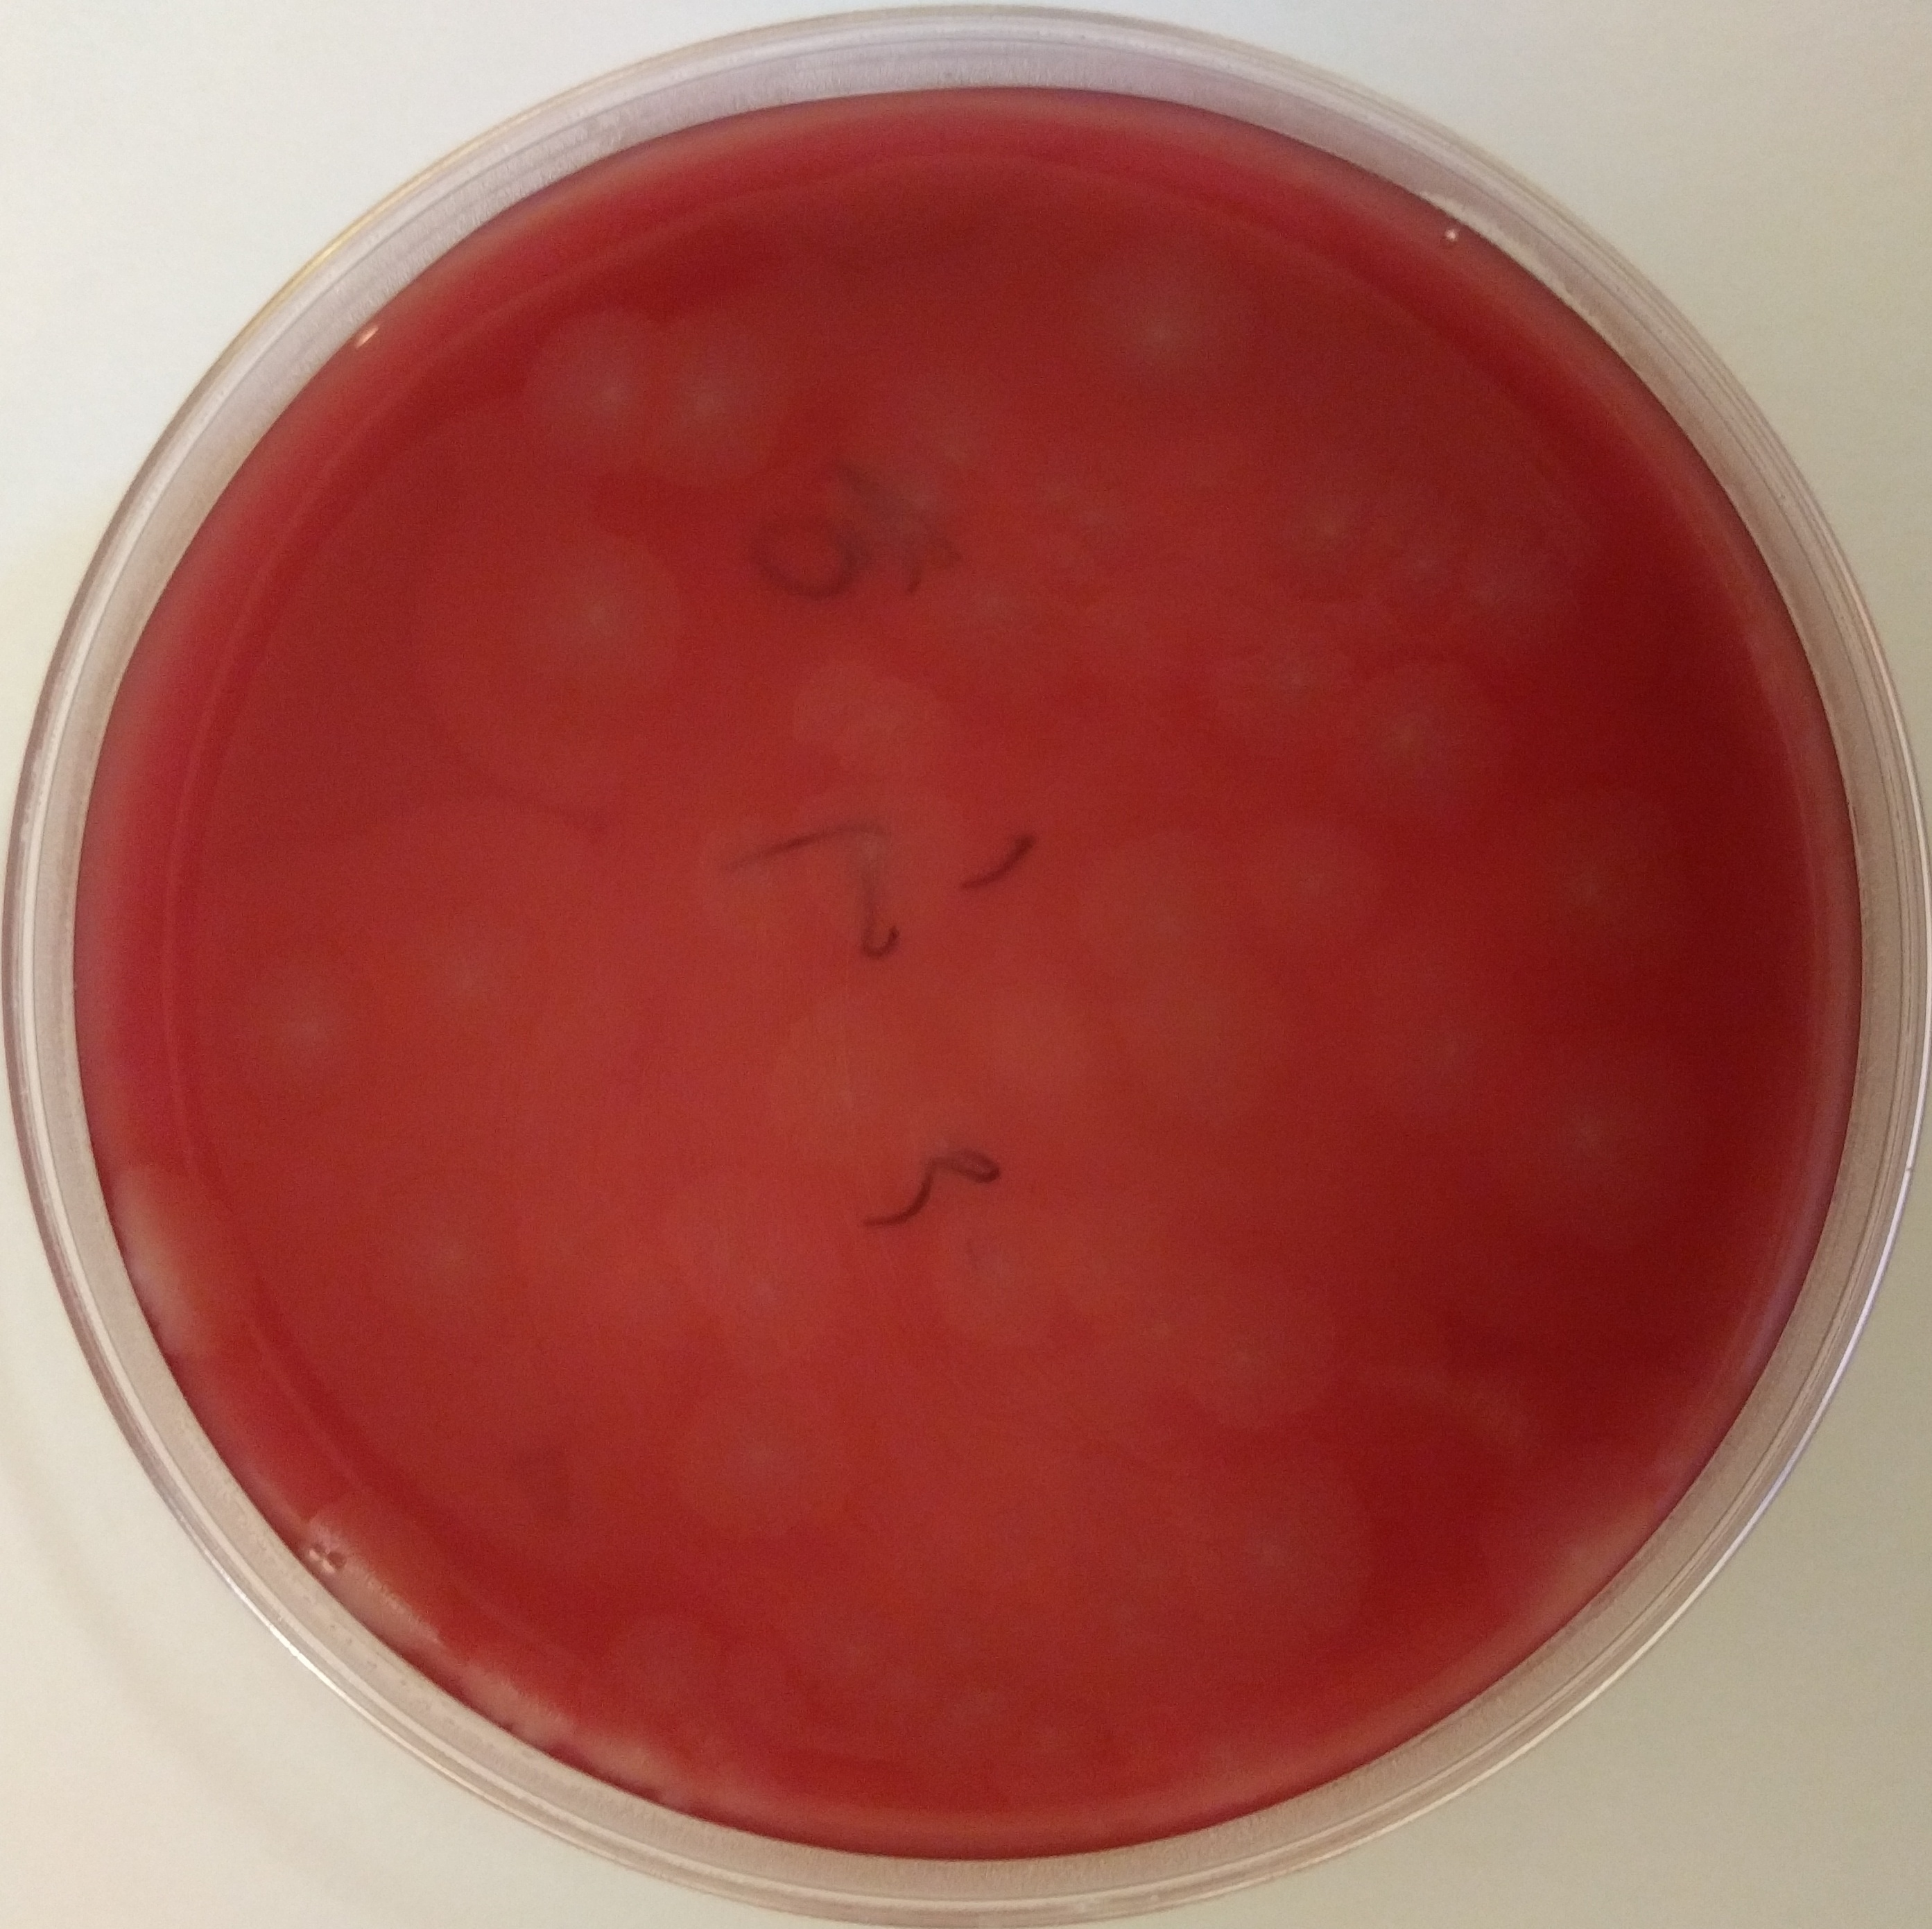sp08: (1466, 1009, 1731, 1263), (638, 1139, 888, 1365), (445, 509, 706, 719), (1487, 760, 1722, 993), (1127, 1219, 1367, 1445), (1326, 894, 1547, 1139), (1095, 903, 1305, 1136), (645, 1350, 885, 1553), (288, 1468, 503, 1685), (595, 288, 811, 502), (1183, 1426, 1383, 1652), (1476, 1410, 1665, 1643), (1312, 632, 1521, 839), (196, 913, 397, 1125), (348, 1148, 546, 1357), (1063, 210, 1268, 405), (1197, 578, 1392, 777), (934, 919, 1132, 1113), (101, 1145, 270, 1369), (367, 874, 565, 1055), (913, 1185, 1102, 1365), (519, 288, 685, 493), (1422, 488, 1593, 680), (1215, 781, 1393, 964), (1061, 809, 1263, 972), (775, 631, 973, 793), (1256, 408, 1422, 594), (1067, 537, 1229, 707), (1453, 1343, 1561, 1473), (749, 491, 865, 606), (604, 1609, 717, 1696), (567, 1698, 664, 1797), (466, 1638, 579, 1721)
